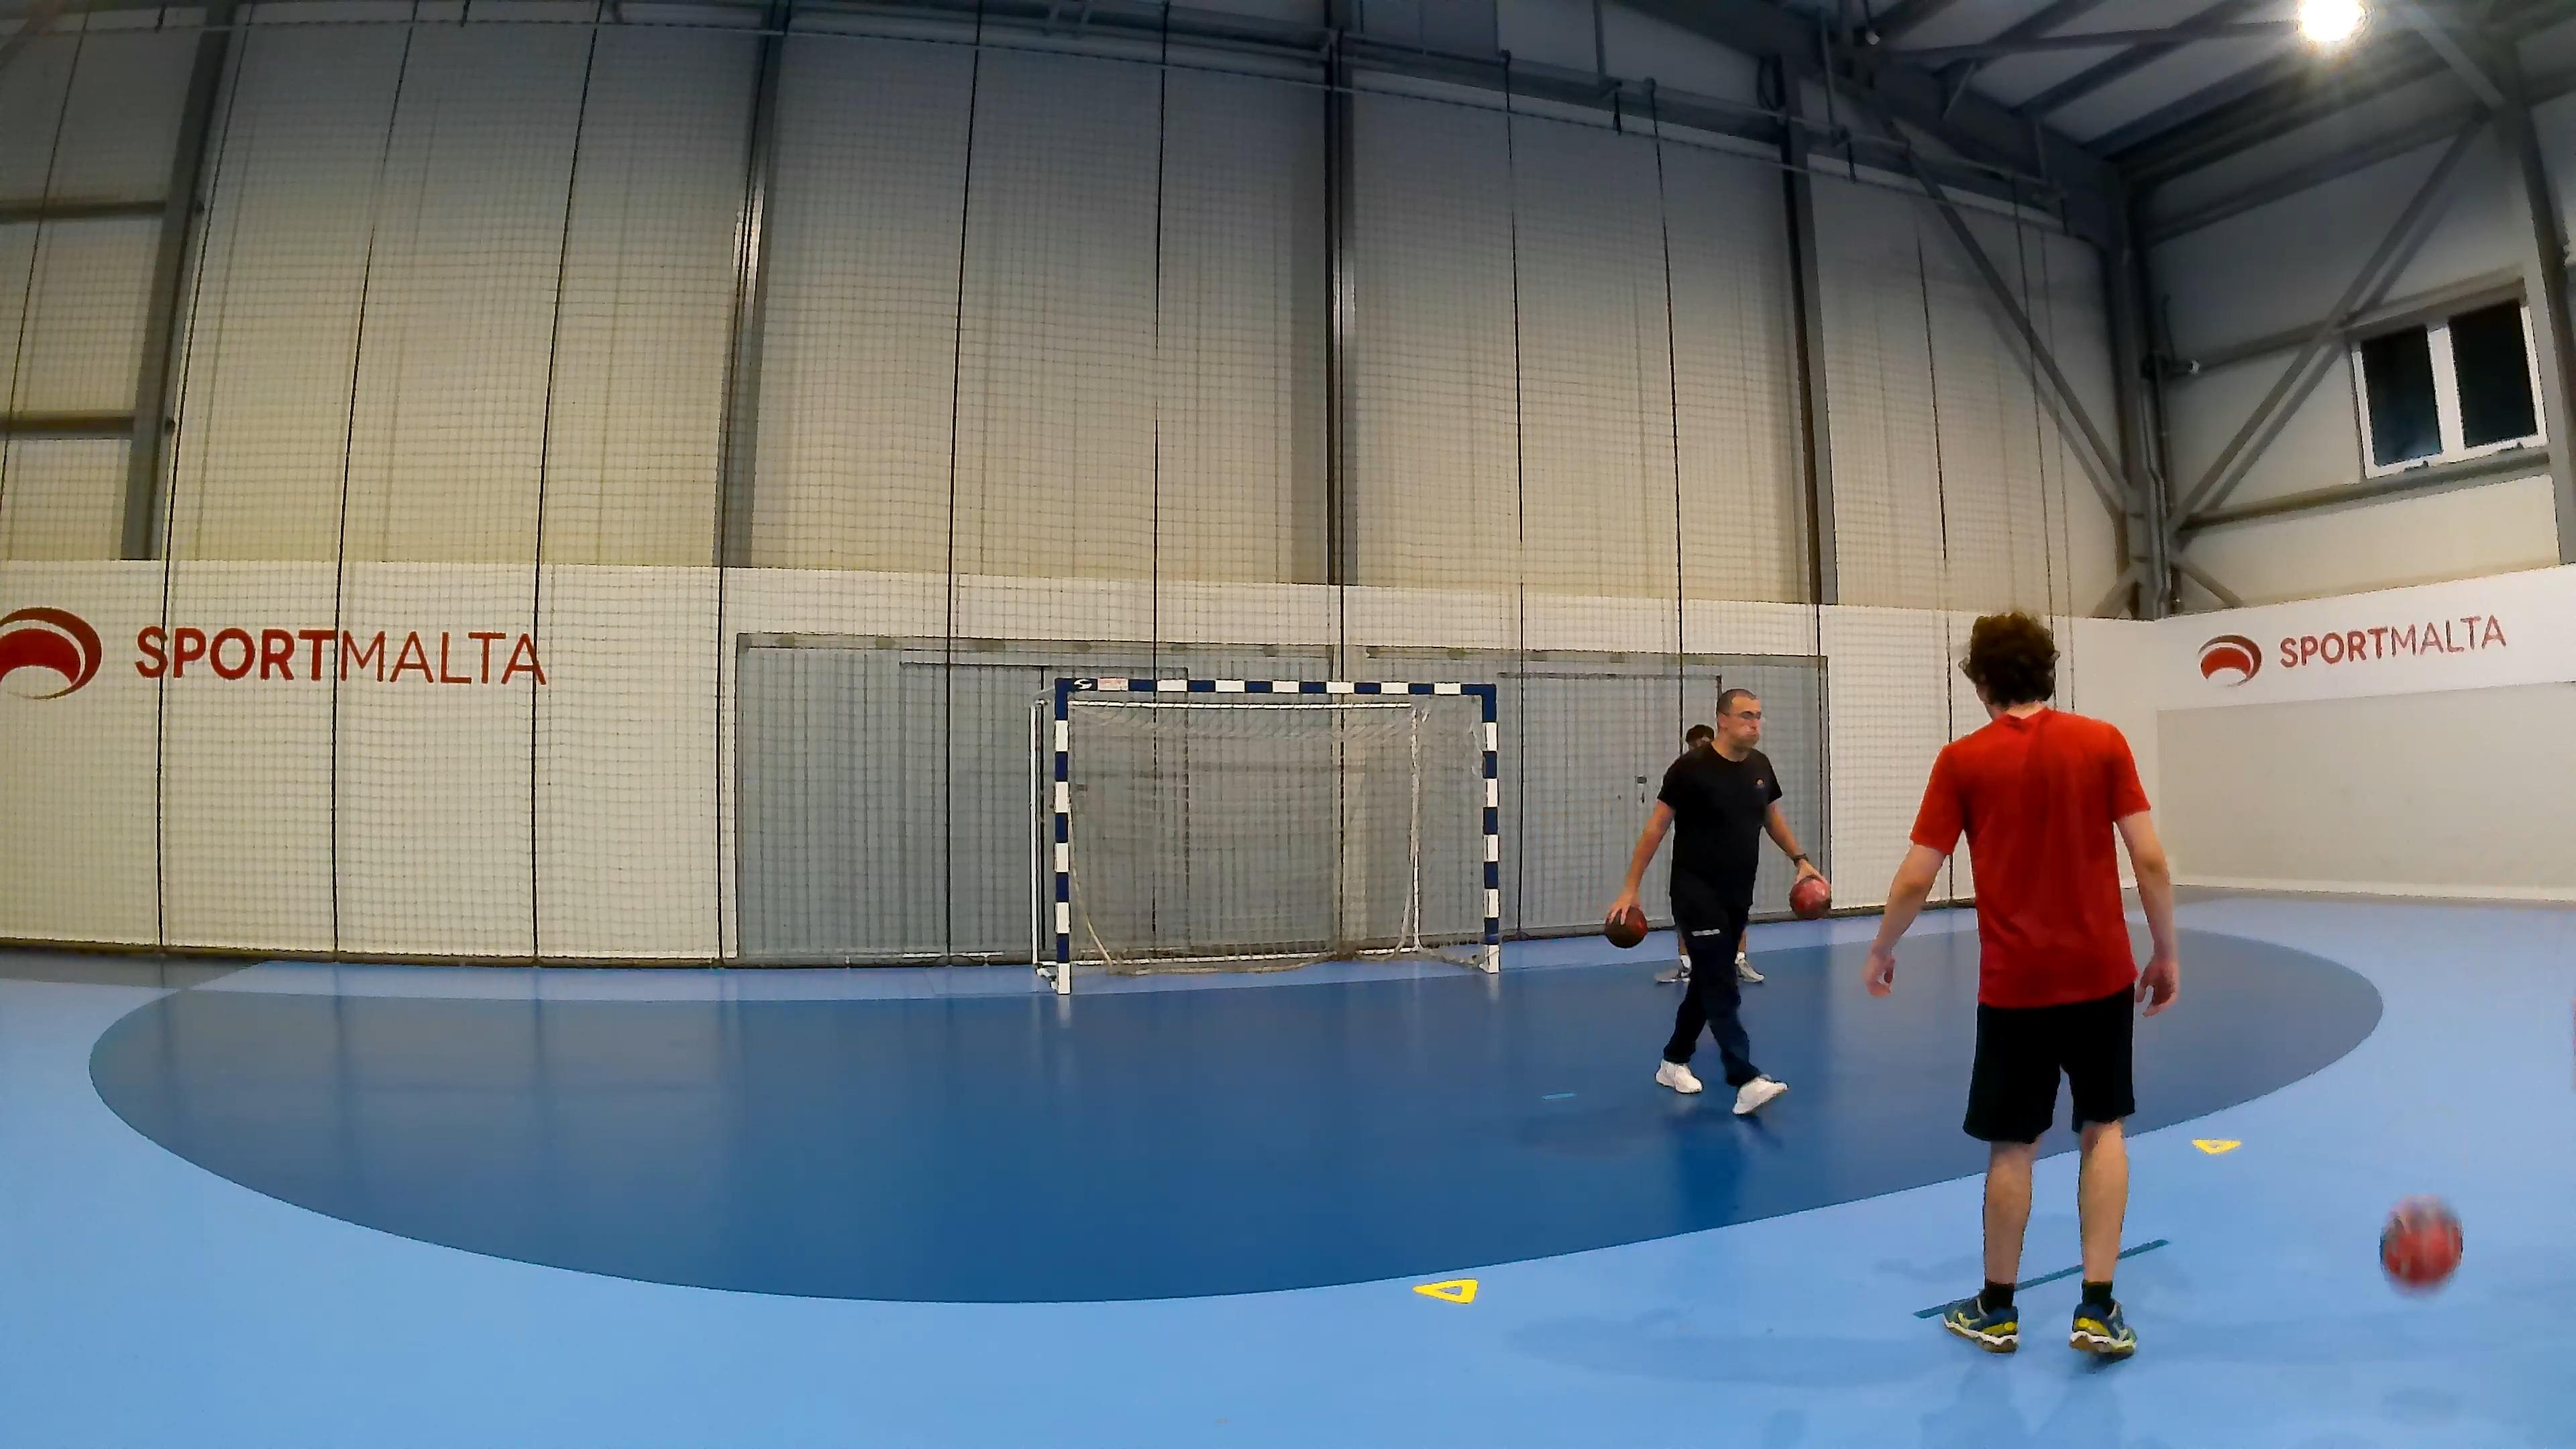handball: (2378, 1194, 2463, 1286), (1603, 902, 1647, 948), (1787, 874, 1831, 918)
